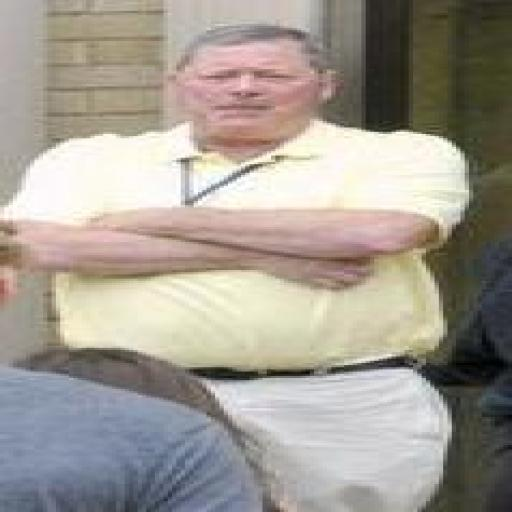person: (5, 24, 468, 511), (18, 346, 292, 511), (0, 368, 262, 511), (422, 236, 511, 511)
